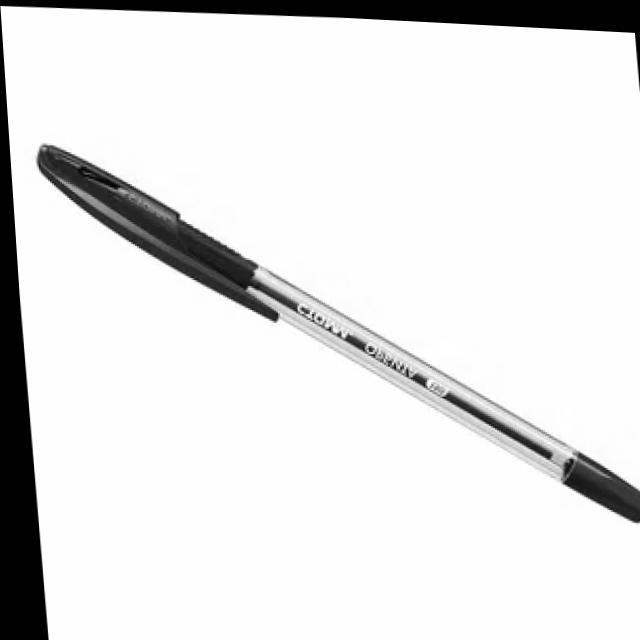pencil: (20, 104, 640, 548)
